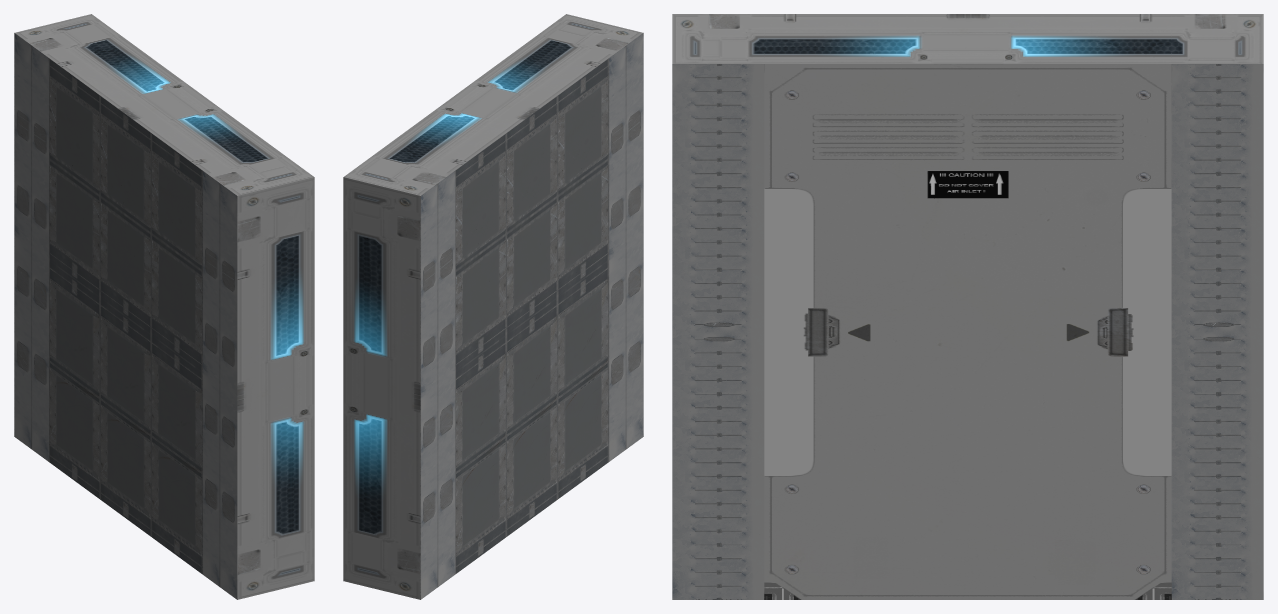
Rendered from SM_WallS12a.fbx.
3 renders of one model, left to right at view 1: azimuth 30°, elevation 25°; view 2: azimuth 150°, elevation 25°; view 3: azimuth 270°, elevation 25°, orthographic. The views are drawn at different scales.
Parts seen in each view (by area): view 1: SM_WallS12a_LOD0; view 2: SM_WallS12a_LOD0; view 3: SM_WallS12a_LOD0.
Part boxes in pixels (x1,y1,x2,y2): SM_WallS12a_LOD0: (14, 14, 314, 599); SM_WallS12a_LOD0: (343, 14, 643, 599); SM_WallS12a_LOD0: (672, 14, 1263, 599).
Size of the model in its own units: 80 by 400 by 400.
Materials: 3 (3 with a texture image).
